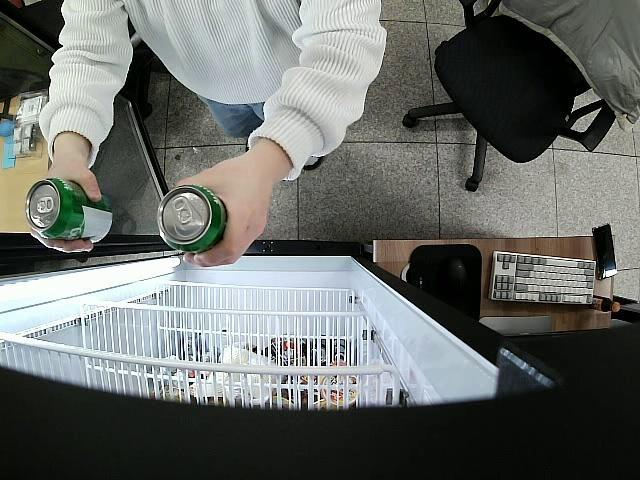12_chilsungCider: (25, 178, 116, 244), (156, 184, 228, 255)
